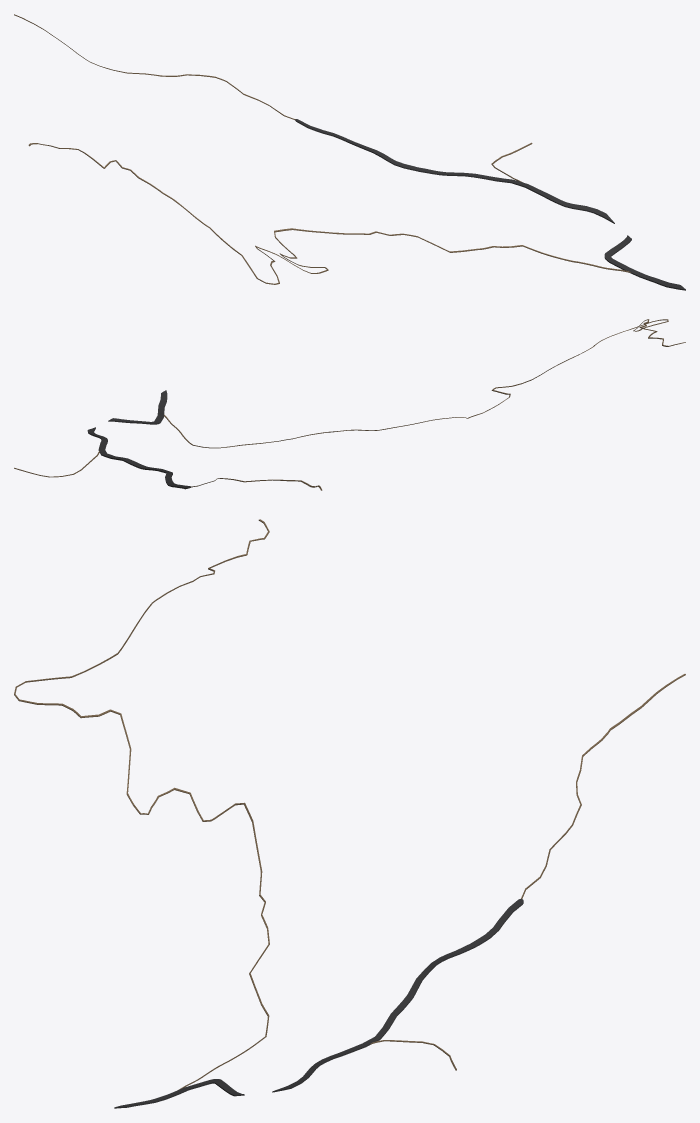
The picture shows the model from 3 angles, top to bottom: view 1: azimuth 30°, elevation 25°; view 2: azimuth 150°, elevation 25°; view 3: azimuth 270°, elevation 25°; orthographic projection. The views are drawn at different scales.
Size of the model in its own units: 655 by 257 by 580.
